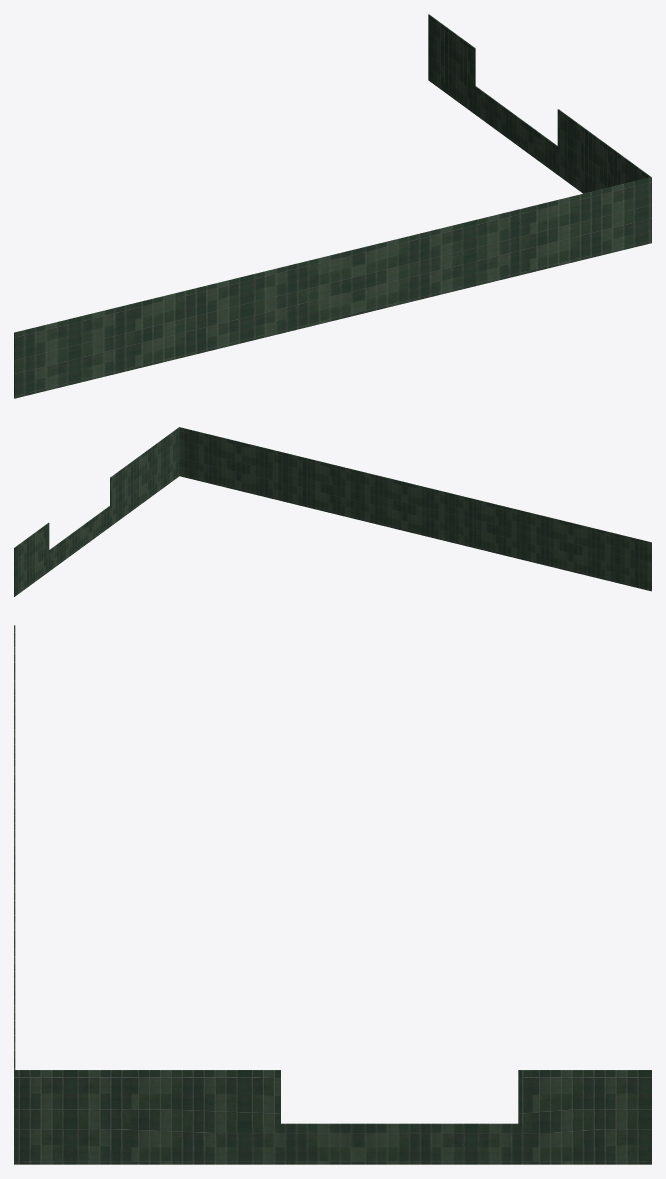
Rendered from BP_PassionVerde.glb.
3 views of the same model, one above another, from view 1: azimuth 30°, elevation 25°; view 2: azimuth 150°, elevation 25°; view 3: azimuth 270°, elevation 25° (orthographic). The views are drawn at different scales.
Parts seen in each view (by area): view 1: BP_Passion Verde.; view 2: BP_Passion Verde.; view 3: BP_Passion Verde..
Boxes of the visible parts, x1=… form: BP_Passion Verde.: x1=14, y1=14, x2=651, y2=398; BP_Passion Verde.: x1=14, y1=427, x2=651, y2=596; BP_Passion Verde.: x1=14, y1=625, x2=651, y2=1164.
Bounding box in the file's own units: 7.1 × 0.7 × 4.3.
1 material, 1 textured.
